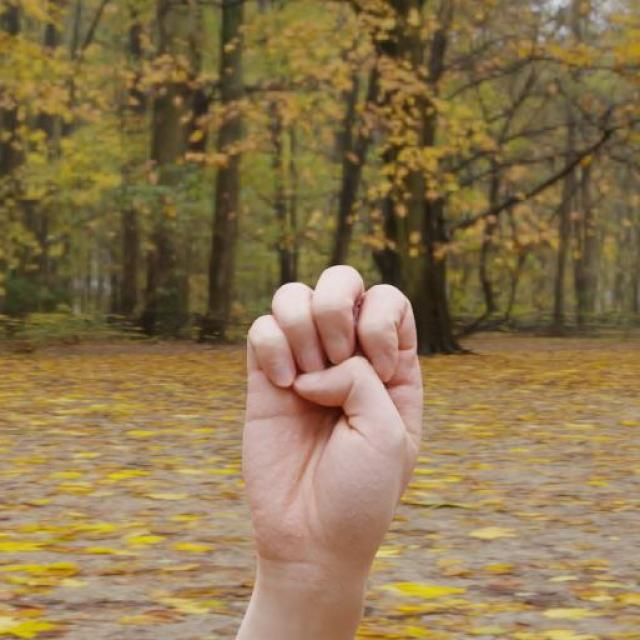E: (239, 244, 423, 586)
